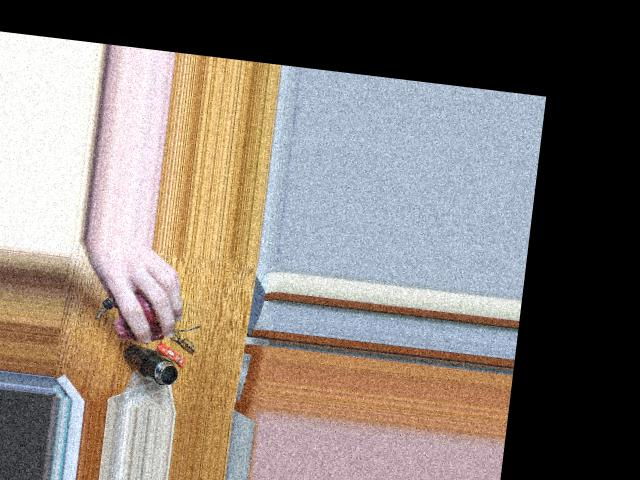onion: (108, 277, 173, 333)
